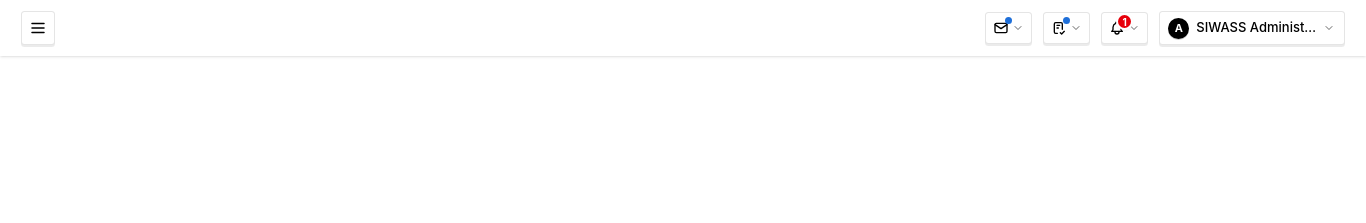
Test: Notification Badge Live Sync › Admin Topbar Notification Badge › clears admin badge when "Mark all read" is clicked in admin dropdown
expect the text "1" is shown: met, box [1116, 13, 1133, 30]
expect the text with test id "notification-badge" reads "1": met, box [1123, 16, 1127, 28]
Open notification dropdown
Click the button named "notifications": click(1124, 28) [1100, 12, 1148, 44]
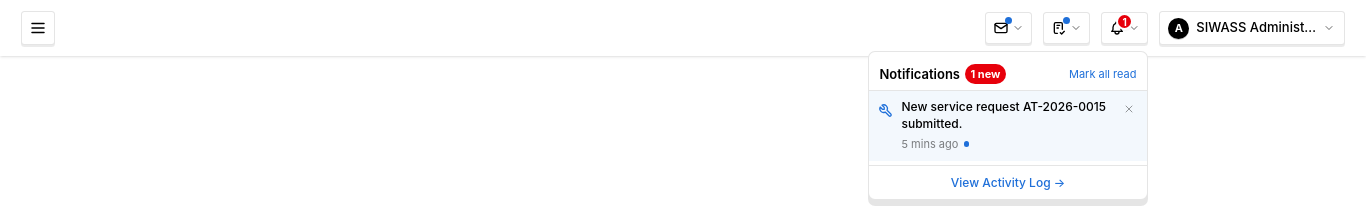
Click Mark all read
Click the button "Mark all read": click(1103, 74) [1069, 66, 1136, 82]
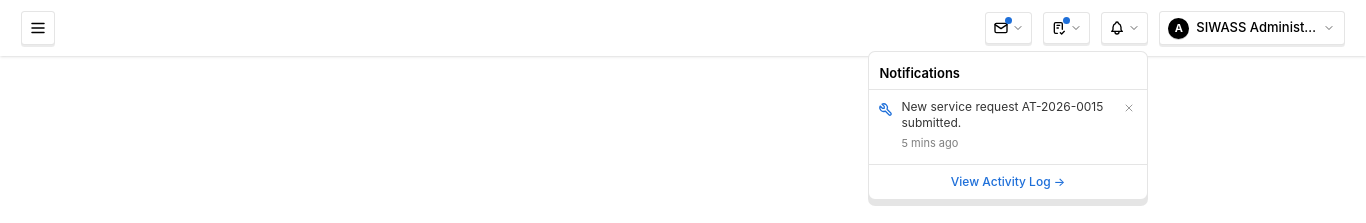
expect the text with test id "notification-badge" is gone: met
